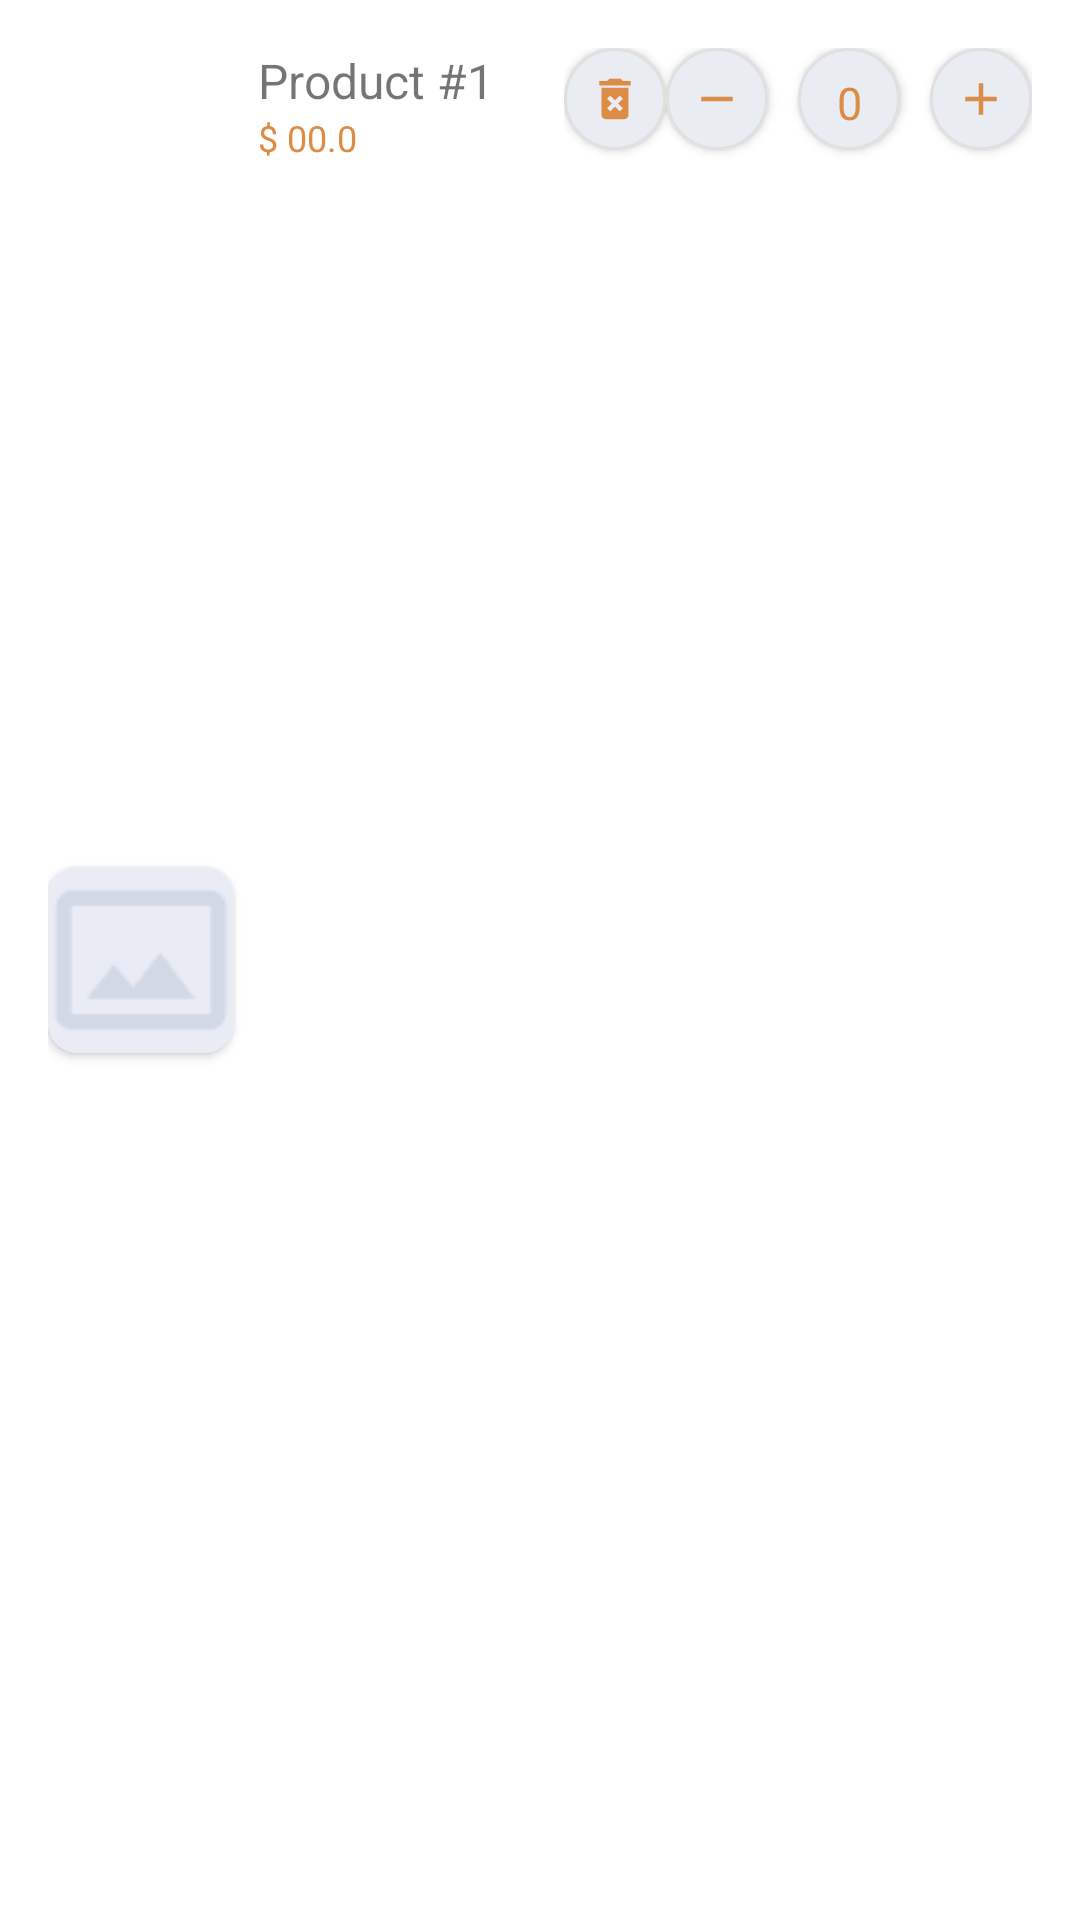

Where icons sit on this 1080*1920 app screen, as (x1, y1, x2, y2):
add: (930, 48, 1032, 150)
delete forever: (564, 48, 666, 150)
remove: (666, 48, 768, 150)
